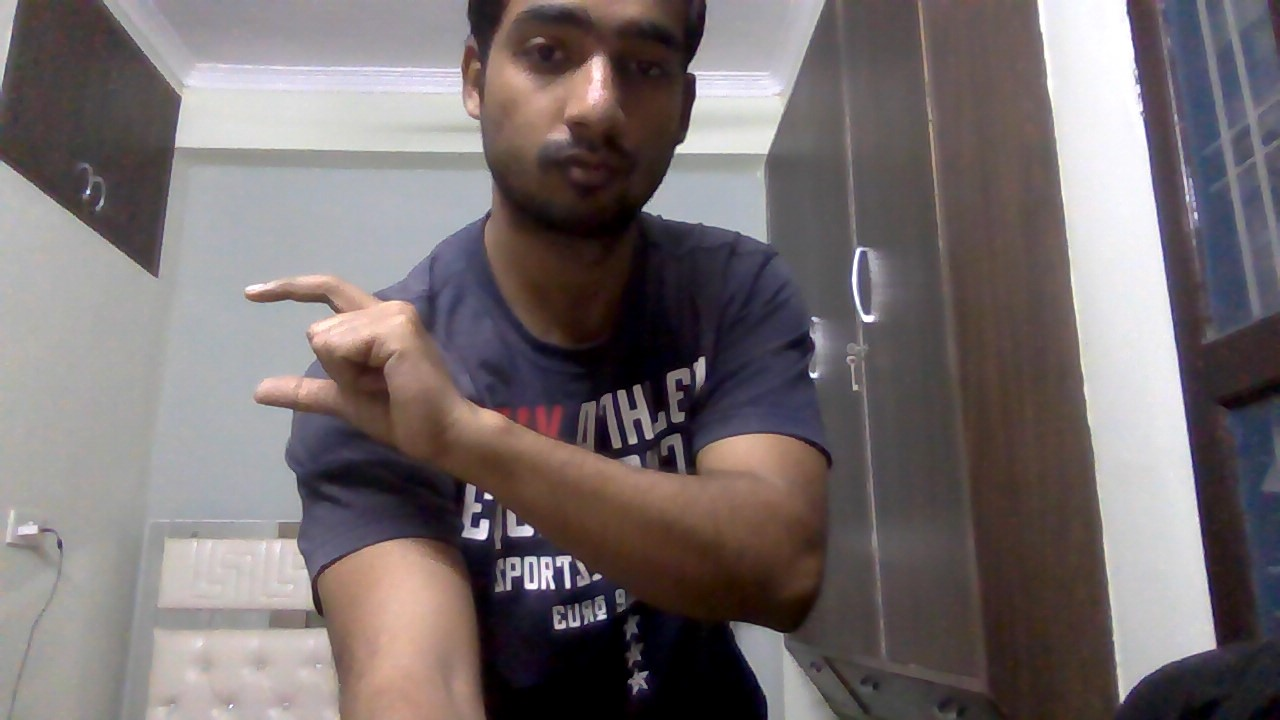Paste: (238, 268, 470, 497)
